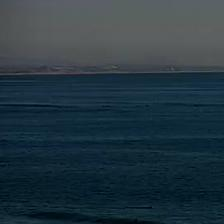surfer: (140, 206, 152, 210), (130, 219, 138, 223)
